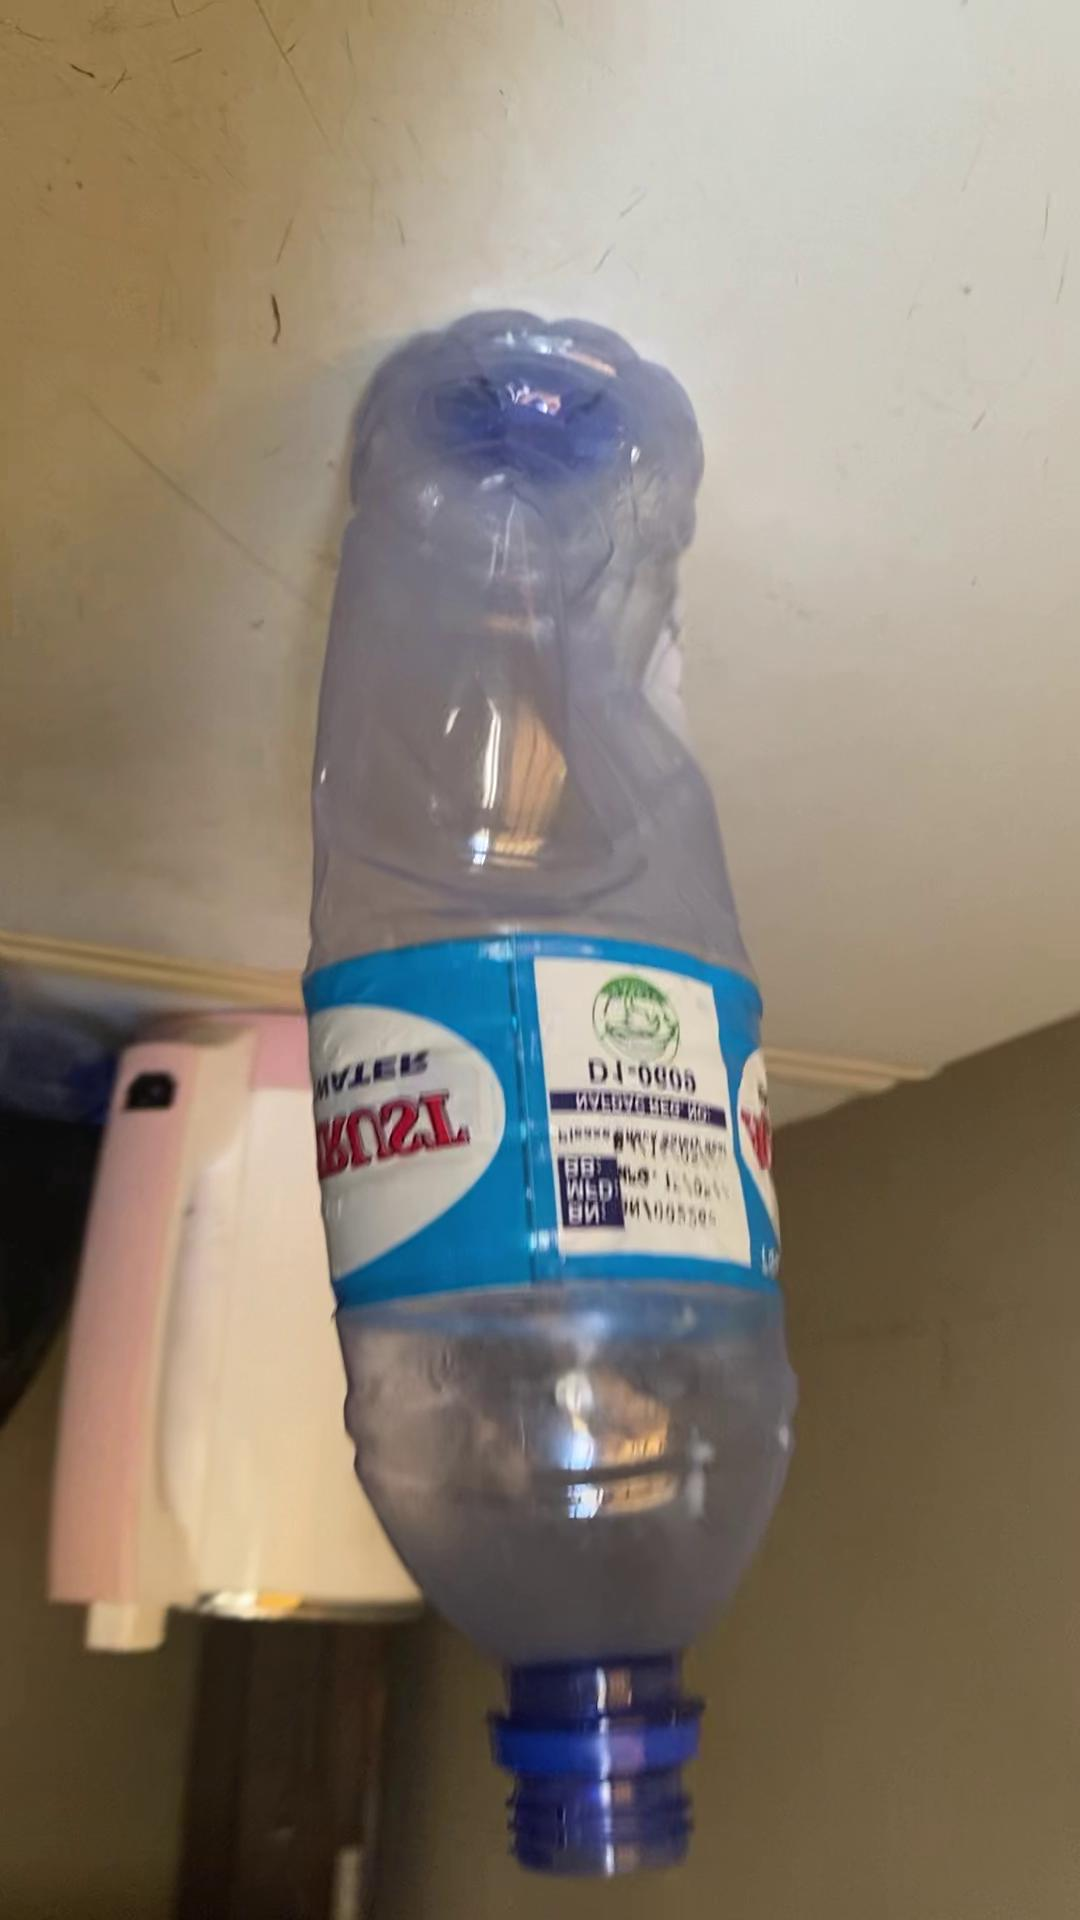crumbled: (294, 306, 806, 1895)
label: (320, 942, 782, 1309)
no-cap: (495, 1735, 702, 1882)
